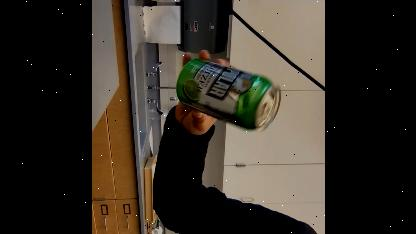Can: (172, 56, 284, 136)
